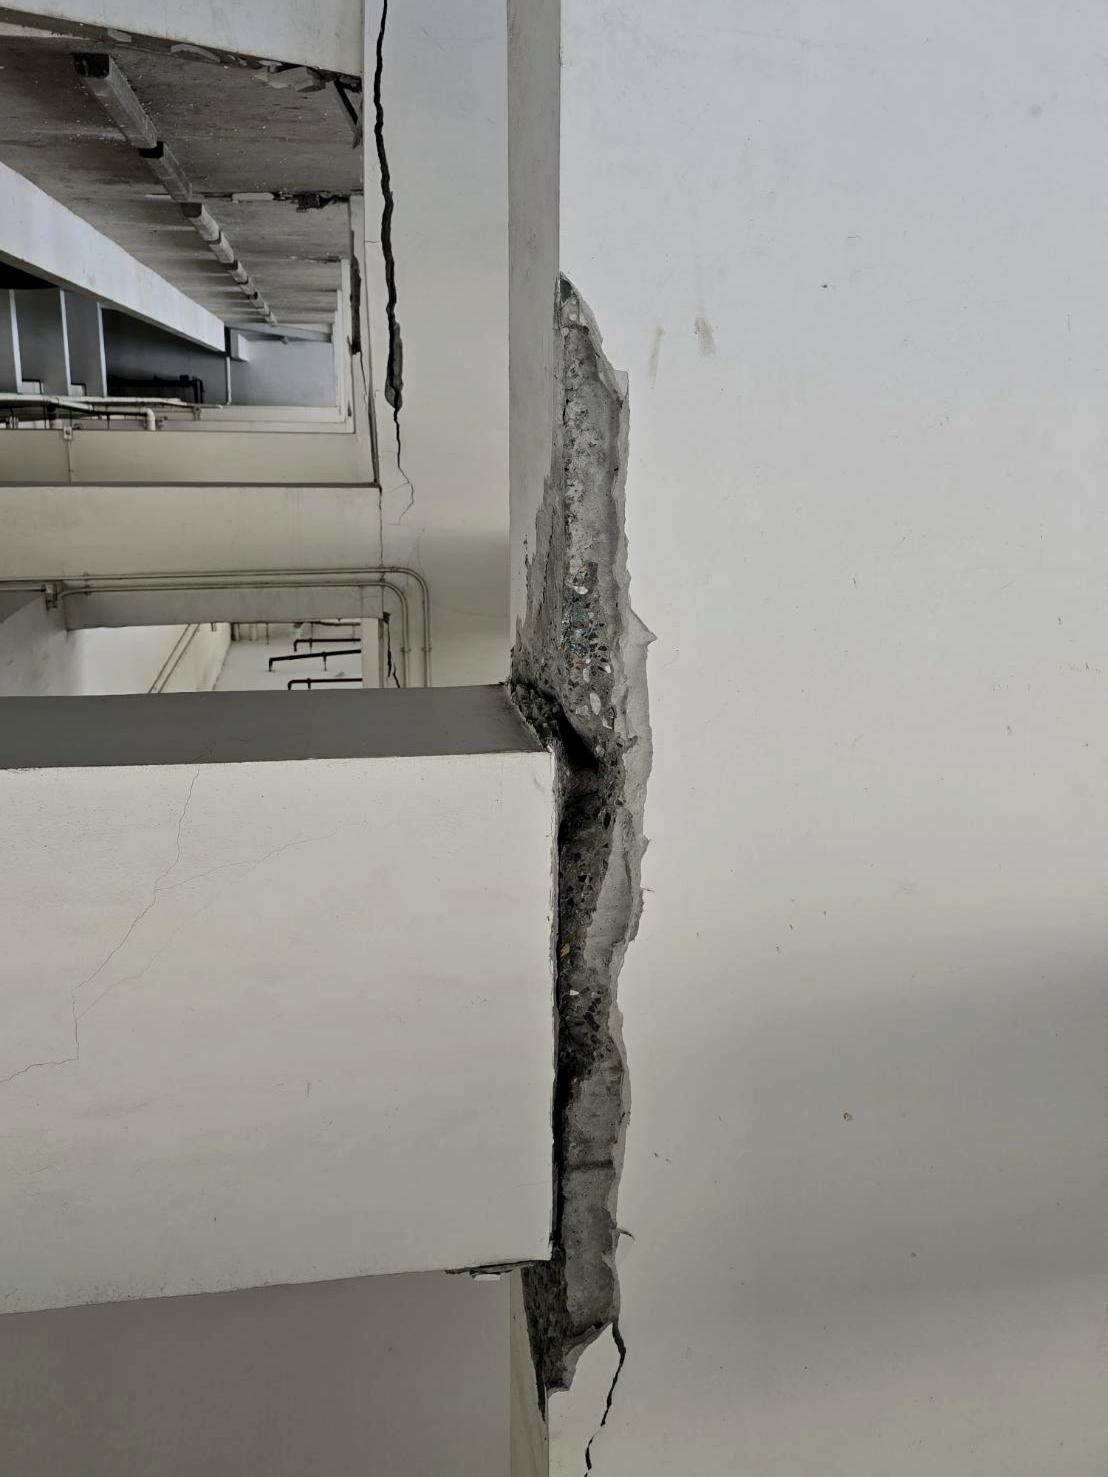High: (358, 2, 692, 1477)
